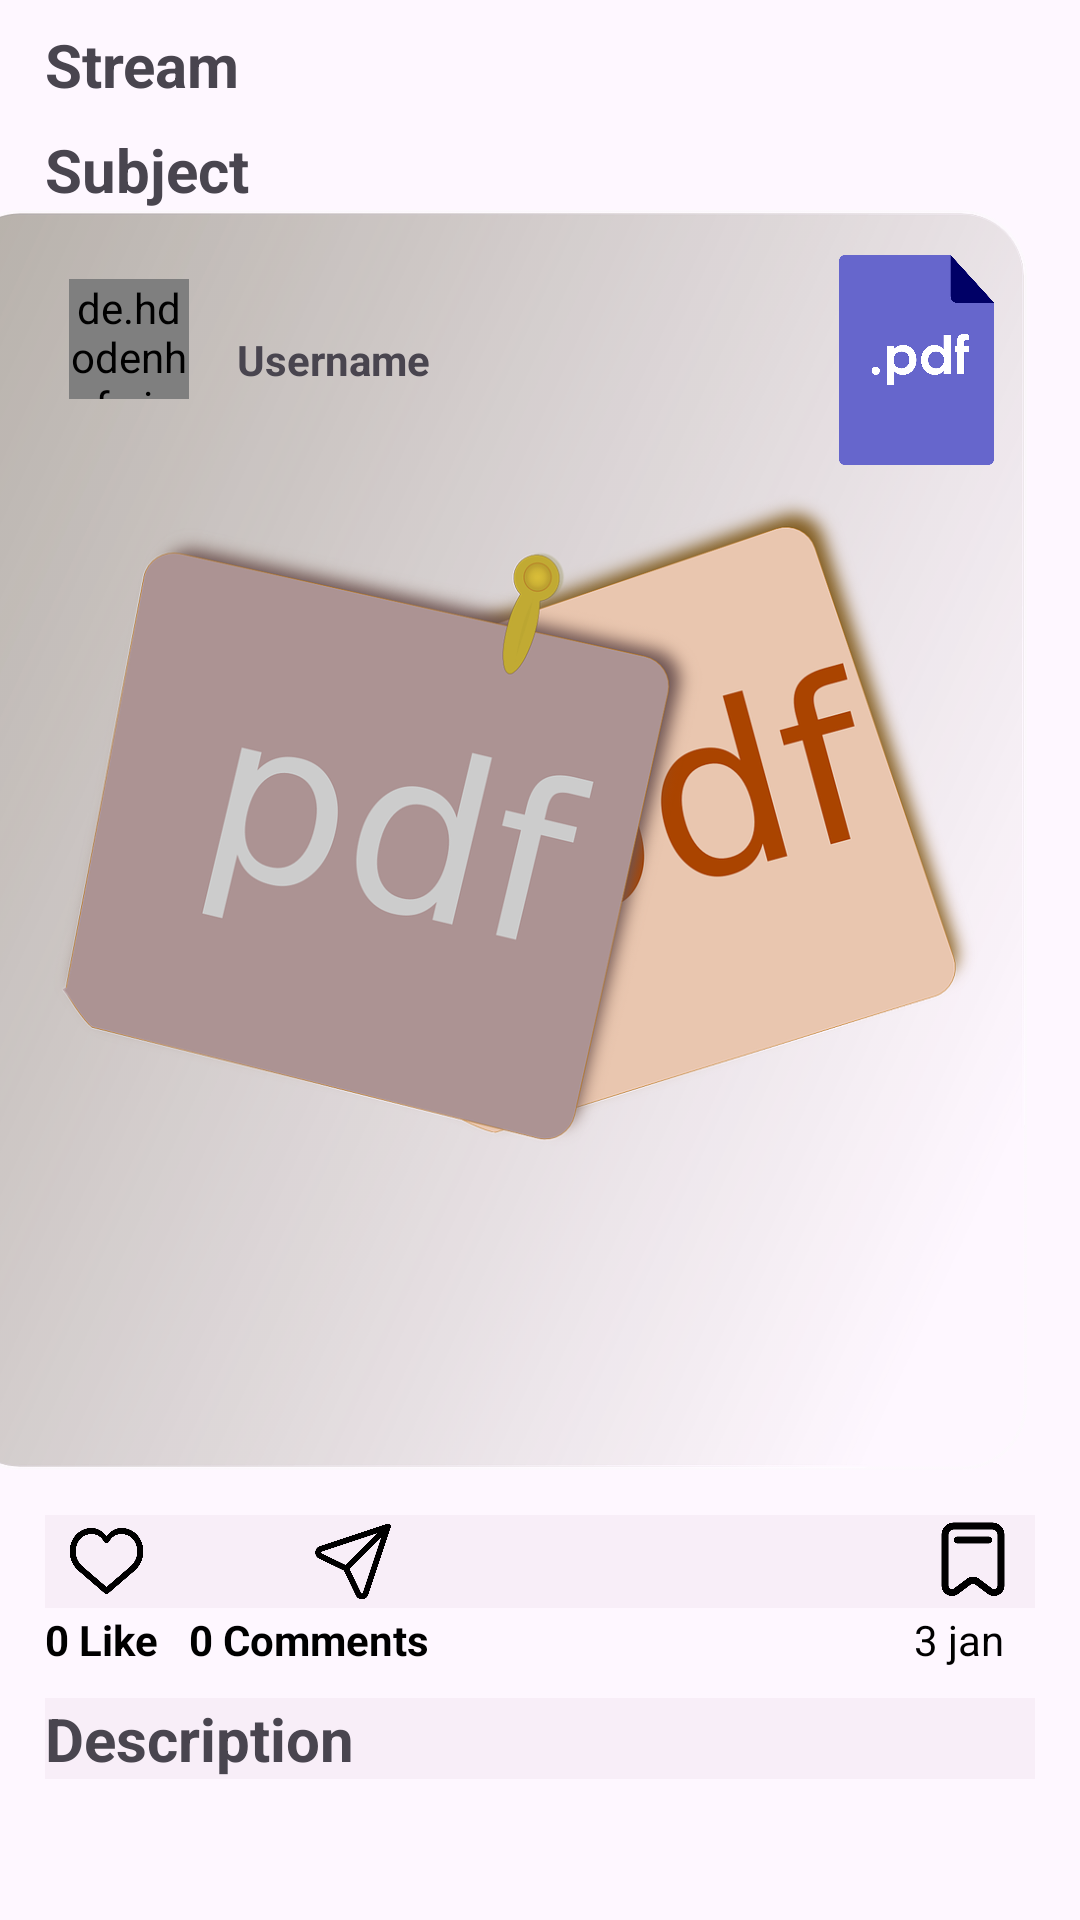

Point at icon controls on the screen. Image size 1080*1920, points as point (x, y).
bookmark: point (973, 1559)
direct: point (353, 1561)
heart: point (106, 1561)
pdficon: point (931, 360)
